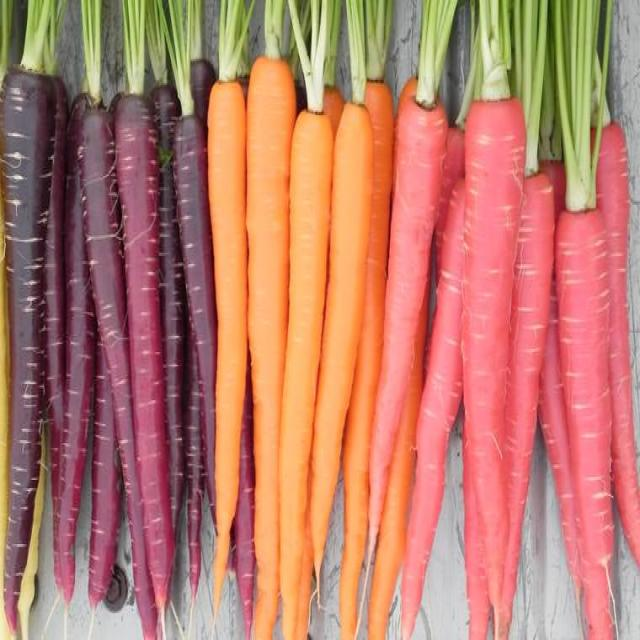Carrot: (250, 58, 294, 638)
